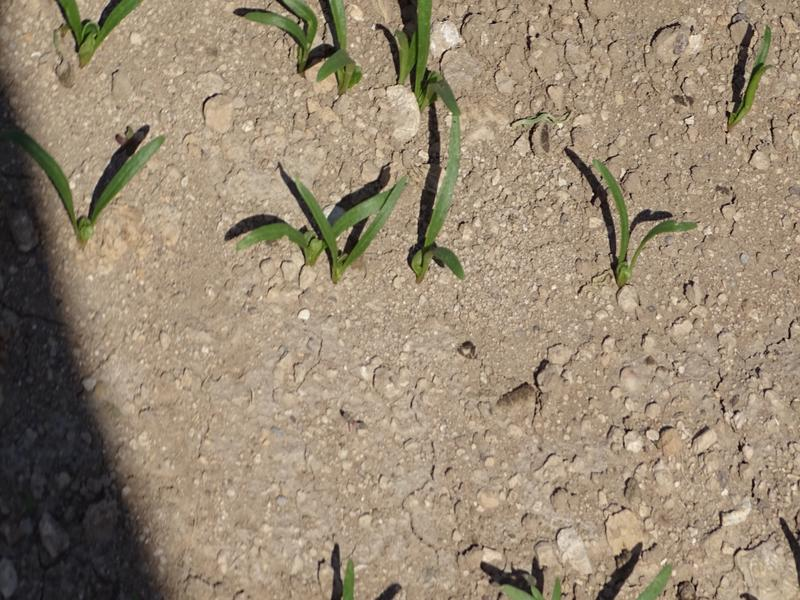Espinaca: (239, 1, 471, 285), (22, 118, 171, 235), (595, 161, 694, 293), (60, 1, 145, 75)
